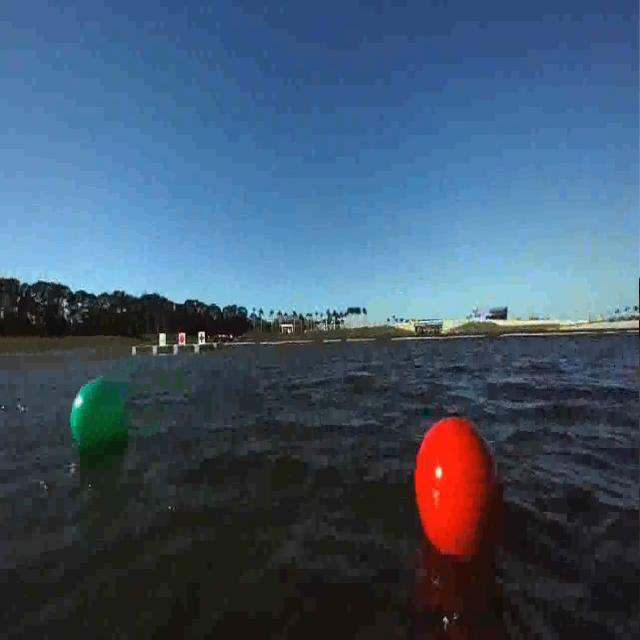green-buoy: (67, 376, 131, 480)
red-buoy: (411, 416, 503, 564)
